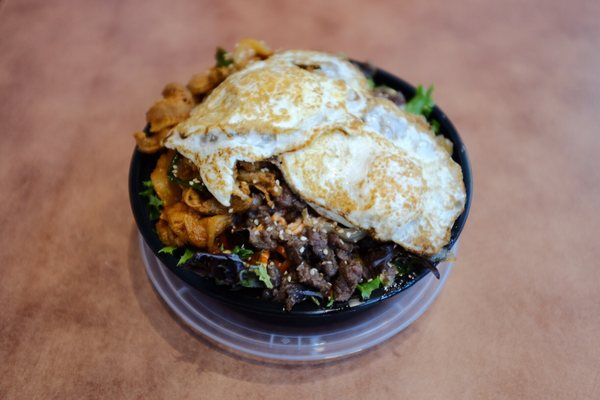sushi: (127, 36, 471, 361)
